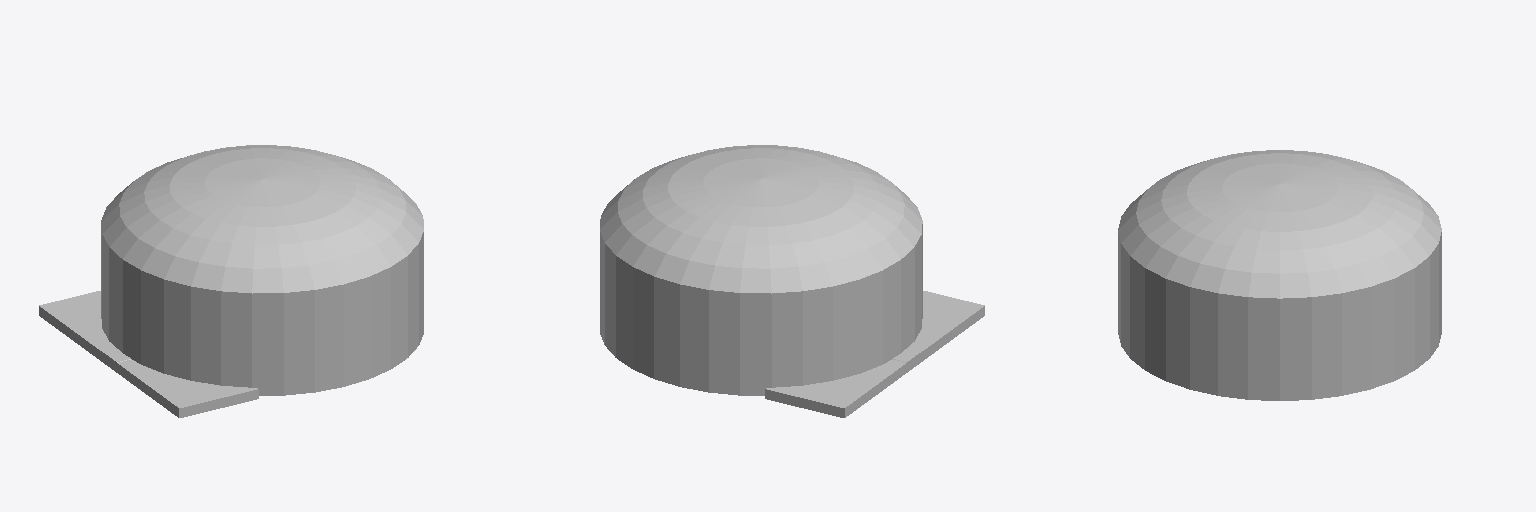
File: Stage.obj
3 views of the same model, side by side, from view 1: azimuth 30°, elevation 25°; view 2: azimuth 150°, elevation 25°; view 3: azimuth 270°, elevation 25° (orthographic).
Visible parts, largest first — view 1: Cube_010_001_Cube.229; view 2: Cube_010_001_Cube.229; view 3: Cube_010_001_Cube.229.
Part boxes in pixels (x1,y1,x2,y2): Cube_010_001_Cube.229: (39,145,423,417); Cube_010_001_Cube.229: (600,145,984,417); Cube_010_001_Cube.229: (1118,150,1441,400).
Size of the model in its own units: 165 by 80.45 by 157.